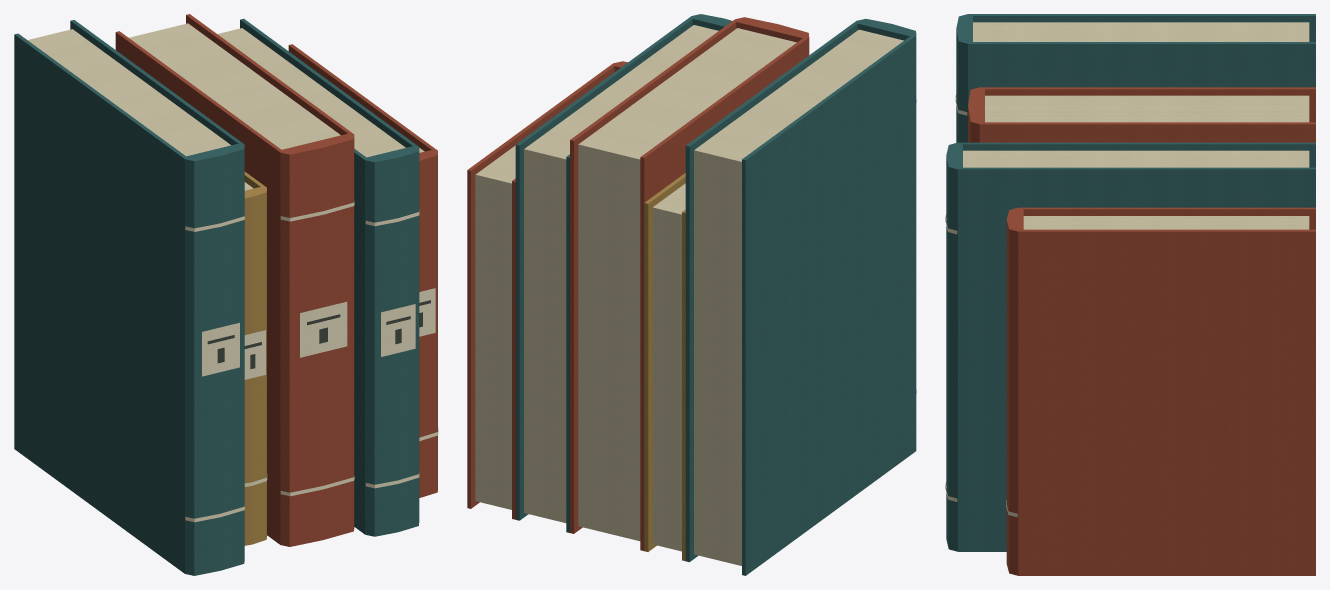
Rendered from quiet_books_left.glb.
3 views of the same model, side by side, from view 1: azimuth 30°, elevation 25°; view 2: azimuth 150°, elevation 25°; view 3: azimuth 270°, elevation 25° (orthographic). The views are drawn at different scales.
Visible parts, largest first — view 1: QA_EXISTING_BOOKS_left_ASTRAEA_book_cover_teal, QA_EXISTING_BOOKS_left_ASTRAEA_book_cover_clay, QA_EXISTING_BOOKS_left_ASTRAEA_book_paper_edges, QA_EXISTING_BOOKS_left_ASTRAEA_book_label_paper, QA_EXISTING_BOOKS_left_ASTRAEA_book_cover_ochre, QA_EXISTING_BOOKS_left_ASTRAEA_book_print_ink; view 2: QA_EXISTING_BOOKS_left_ASTRAEA_book_paper_edges, QA_EXISTING_BOOKS_left_ASTRAEA_book_cover_teal, QA_EXISTING_BOOKS_left_ASTRAEA_book_cover_clay, QA_EXISTING_BOOKS_left_ASTRAEA_book_cover_ochre; view 3: QA_EXISTING_BOOKS_left_ASTRAEA_book_cover_clay, QA_EXISTING_BOOKS_left_ASTRAEA_book_cover_teal, QA_EXISTING_BOOKS_left_ASTRAEA_book_paper_edges.
Part boxes in pixels (x1,y1,x2,y2): QA_EXISTING_BOOKS_left_ASTRAEA_book_cover_teal: (14,18,419,575); QA_EXISTING_BOOKS_left_ASTRAEA_book_cover_clay: (115,14,437,546); QA_EXISTING_BOOKS_left_ASTRAEA_book_paper_edges: (27,23,424,190); QA_EXISTING_BOOKS_left_ASTRAEA_book_label_paper: (185,201,438,522); QA_EXISTING_BOOKS_left_ASTRAEA_book_cover_ochre: (244,171,266,545); QA_EXISTING_BOOKS_left_ASTRAEA_book_print_ink: (207,300,430,369); QA_EXISTING_BOOKS_left_ASTRAEA_book_paper_edges: (475,25,903,565); QA_EXISTING_BOOKS_left_ASTRAEA_book_cover_teal: (515,14,916,575); QA_EXISTING_BOOKS_left_ASTRAEA_book_cover_clay: (467,17,809,550); QA_EXISTING_BOOKS_left_ASTRAEA_book_cover_ochre: (644,173,685,561); QA_EXISTING_BOOKS_left_ASTRAEA_book_cover_clay: (968,87,1315,575); QA_EXISTING_BOOKS_left_ASTRAEA_book_cover_teal: (946,14,1315,551); QA_EXISTING_BOOKS_left_ASTRAEA_book_paper_edges: (963,22,1309,229).
Size of the model in its own units: 0.195 by 0.278 by 0.2207.
Materials: 6 (6 with a texture image).
